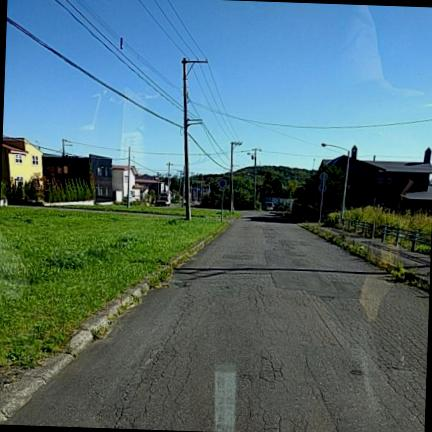Road: (10, 213, 428, 431)
